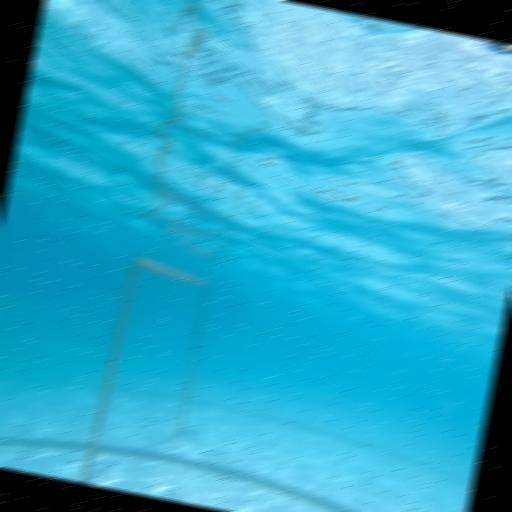gate: (80, 251, 216, 500)
